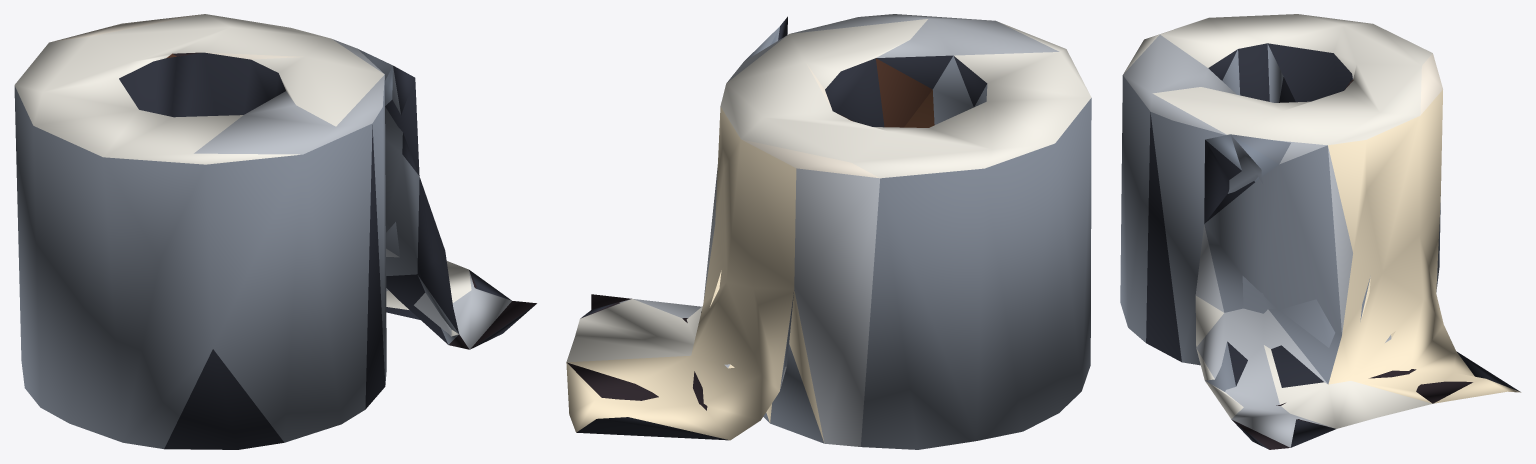
Rendered from SM_toilet_paper.glb.
3 views of the same model, side by side, from view 1: azimuth 30°, elevation 25°; view 2: azimuth 150°, elevation 25°; view 3: azimuth 270°, elevation 25° (orthographic). The views are drawn at different scales.
Visible parts, largest first — view 1: SM_toilet_paper; view 2: SM_toilet_paper; view 3: SM_toilet_paper.
Boxes of the visible parts, <box> form: SM_toilet_paper: <box>14,14,536,449</box>; SM_toilet_paper: <box>566,14,1091,449</box>; SM_toilet_paper: <box>1120,14,1521,449</box>.
Bounding box in the file's own units: 0.2142 × 0.13 × 0.1829.
Materials: 1 (1 with a texture image).
